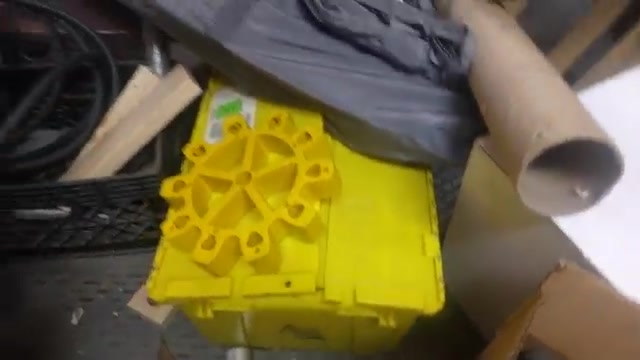gear: (153, 103, 348, 280)
